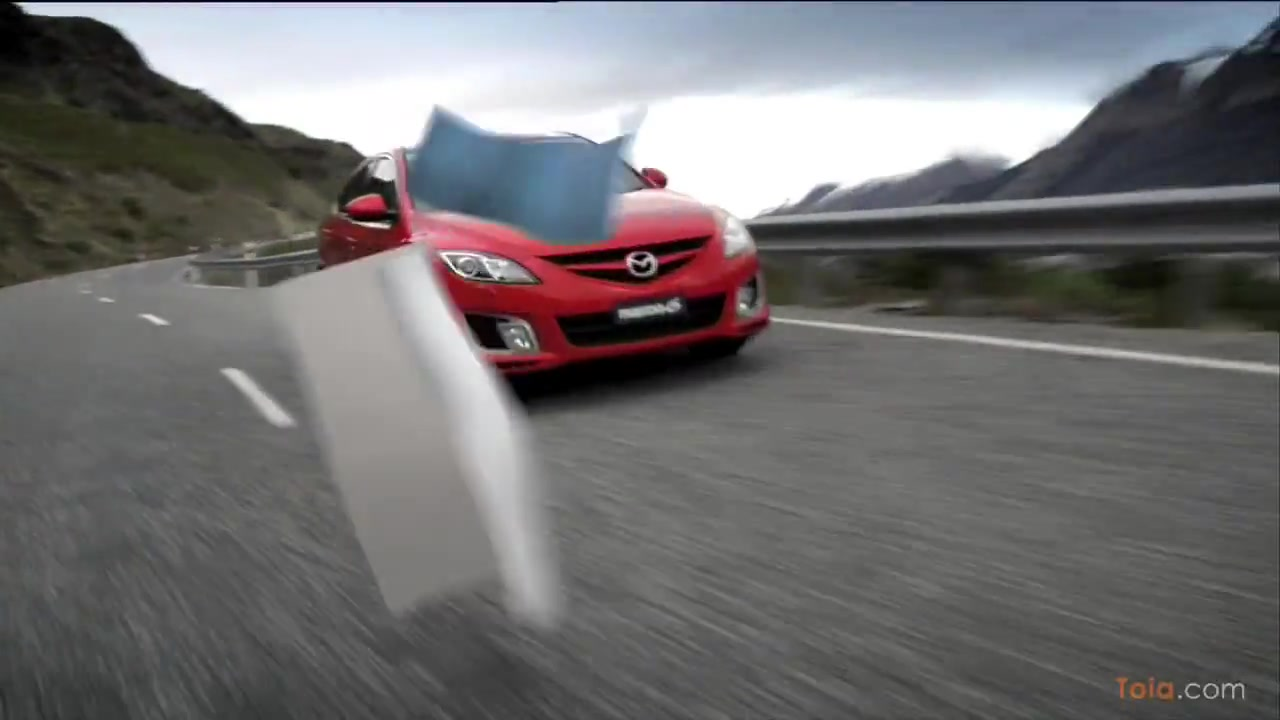car: (313, 127, 774, 405)
